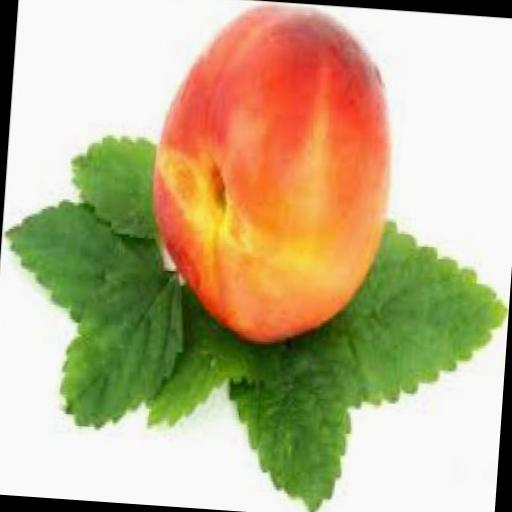biodegradable: (138, 0, 402, 356), (373, 214, 512, 413), (221, 327, 364, 512), (0, 191, 166, 335), (55, 258, 186, 438), (140, 332, 296, 451), (65, 128, 158, 235)
